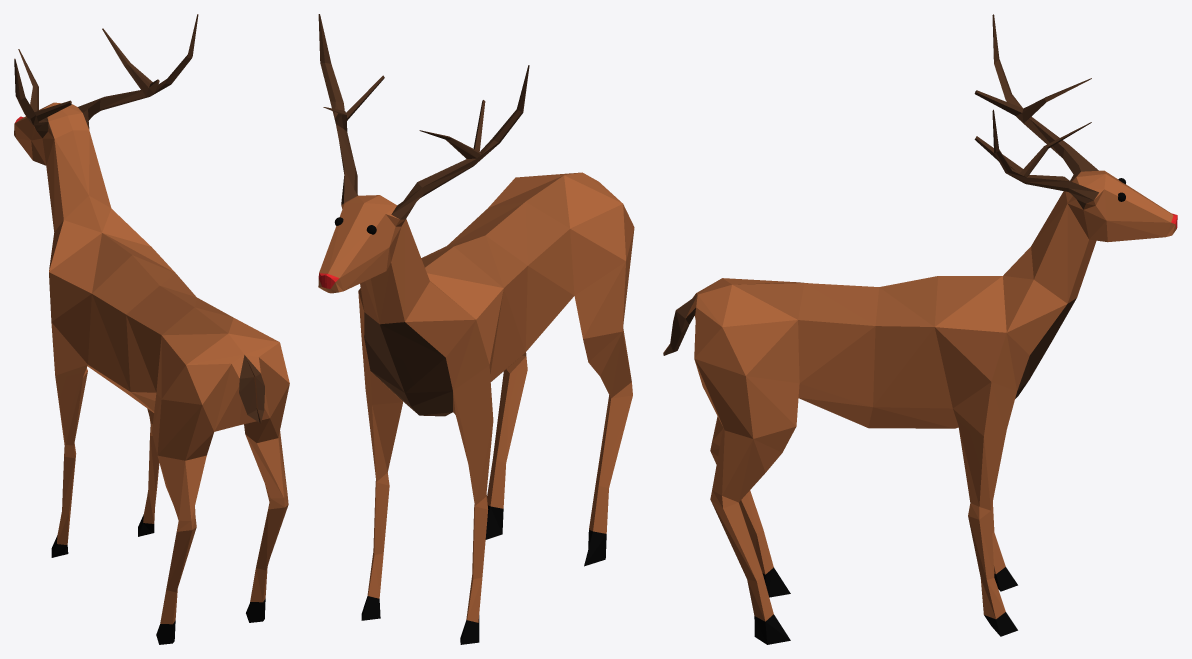
File: rudolph.fbx
3 renders of one model, left to right at view 1: azimuth 30°, elevation 25°; view 2: azimuth 150°, elevation 25°; view 3: azimuth 270°, elevation 25°, orthographic. The views are drawn at different scales.
Parts seen in each view (by area): view 1: body; view 2: body; view 3: body.
Part boxes in pixels (bbox=[...]): body: bbox=[14, 14, 289, 644]; body: bbox=[318, 14, 634, 644]; body: bbox=[663, 14, 1177, 644].
Size of the model in its own units: 24.31 by 65.42 by 54.89.
